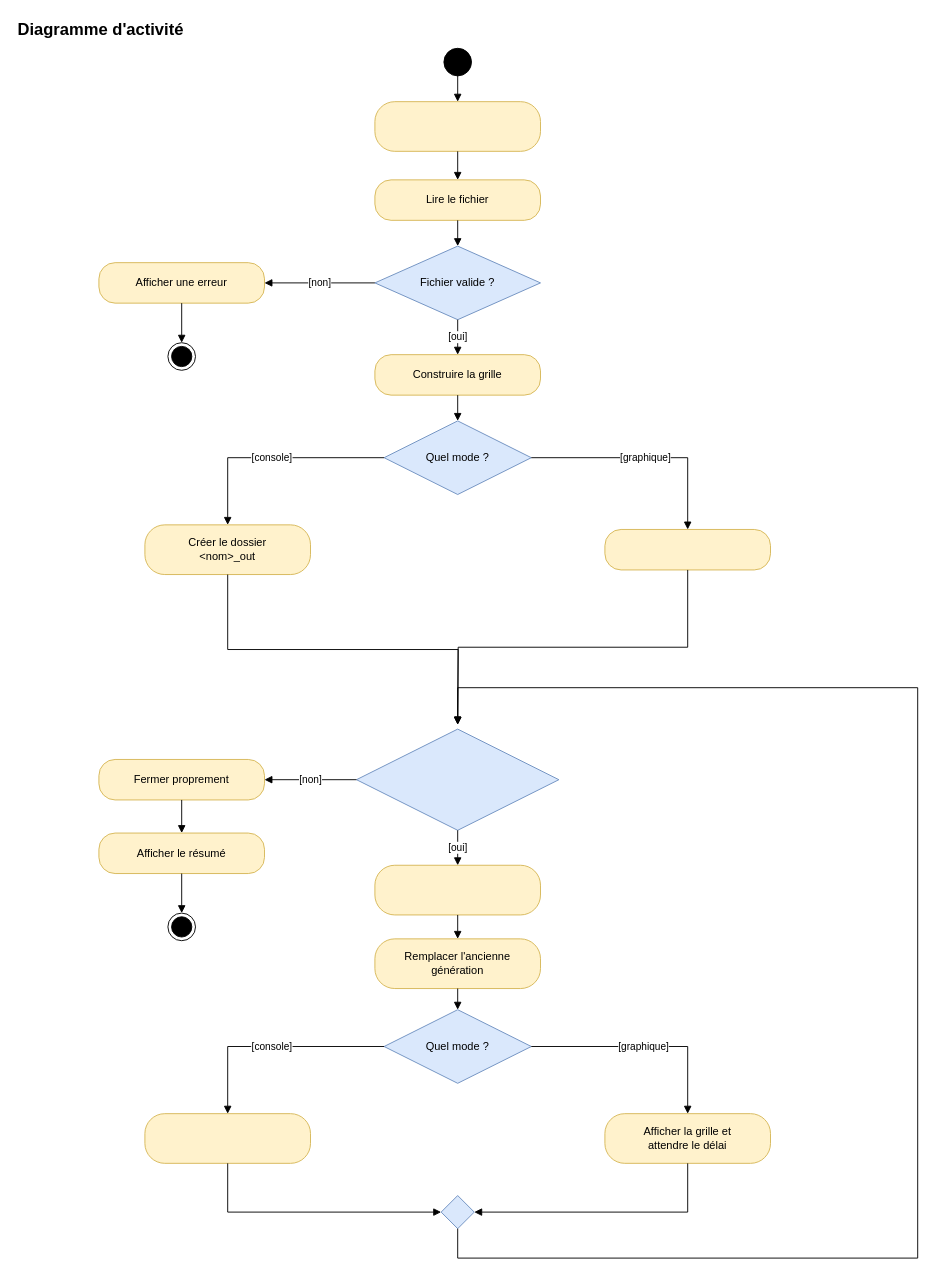
Image size: 941x1282. Some labels were removed from this diagram. The centre of each missing label's shape, as x and y in pixels:
"Calculer la génération suivante" goes at point (457, 889).
"Continuer ? (non stable ET itération < max)" goes at point (457, 779).
"Lire les arguments (chemin, mode)" goes at point (457, 126).
"Ouvrir la fenêtre" goes at point (687, 549).
"Écrire la grille dans un fichier" goes at point (227, 1138).
